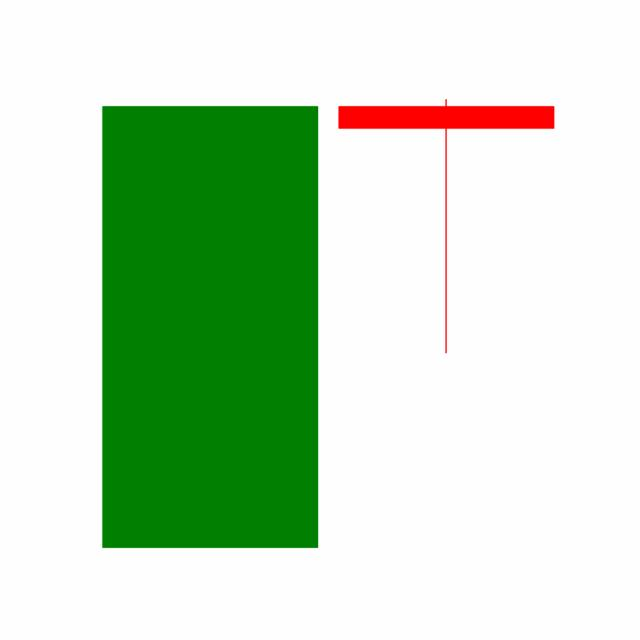Hanging Man: (327, 95, 565, 356)
